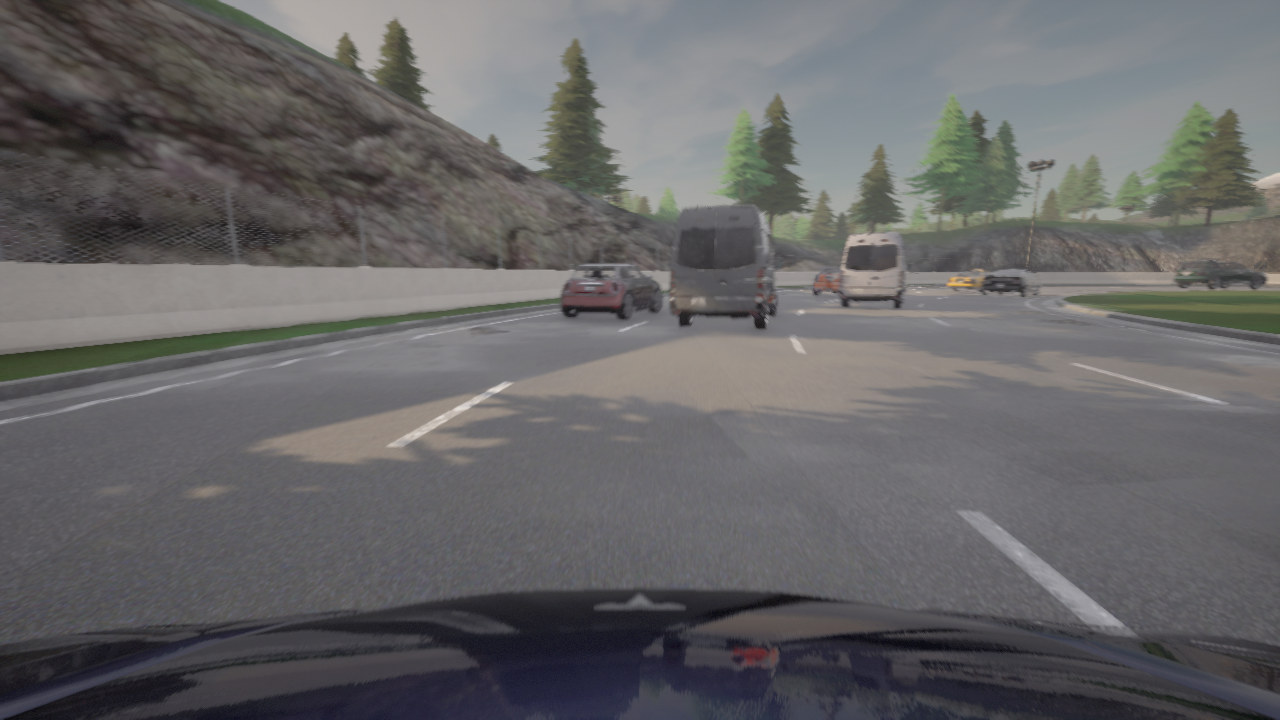cyclist: (0, 588, 1279, 719), (670, 205, 782, 328), (561, 263, 661, 319), (839, 232, 911, 308), (1175, 261, 1266, 283), (982, 266, 1040, 296), (947, 268, 991, 292), (813, 263, 841, 294)
